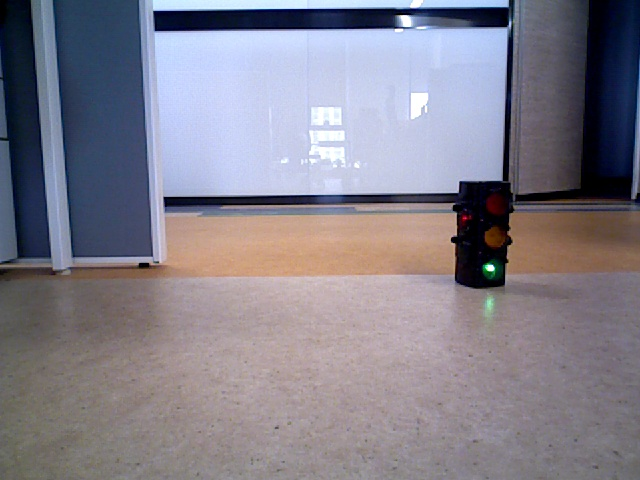green: (457, 182, 509, 280)
